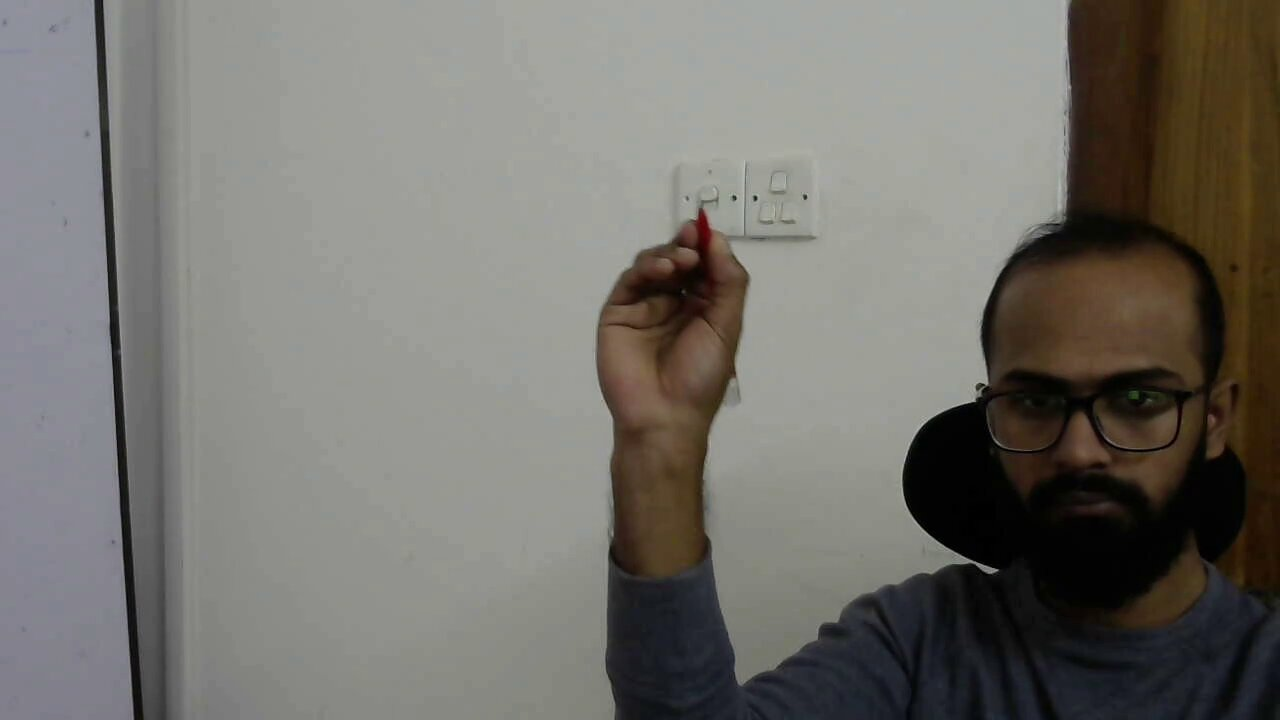pointer: (604, 216, 751, 343)
